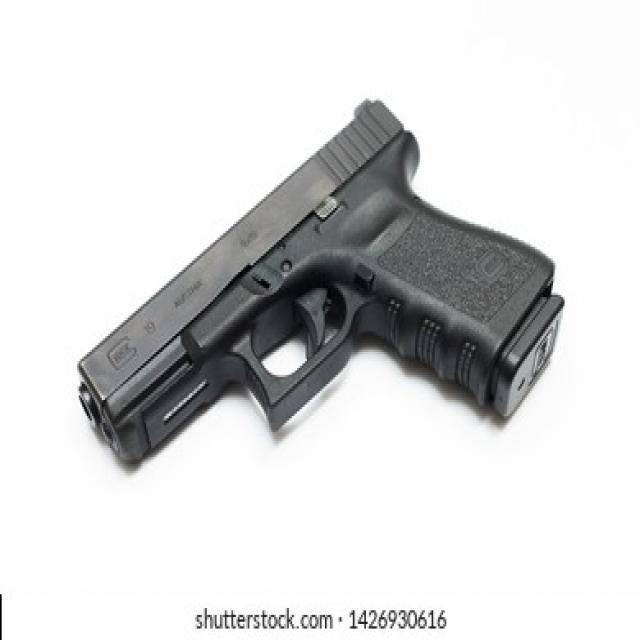pistol: (66, 94, 573, 494)
